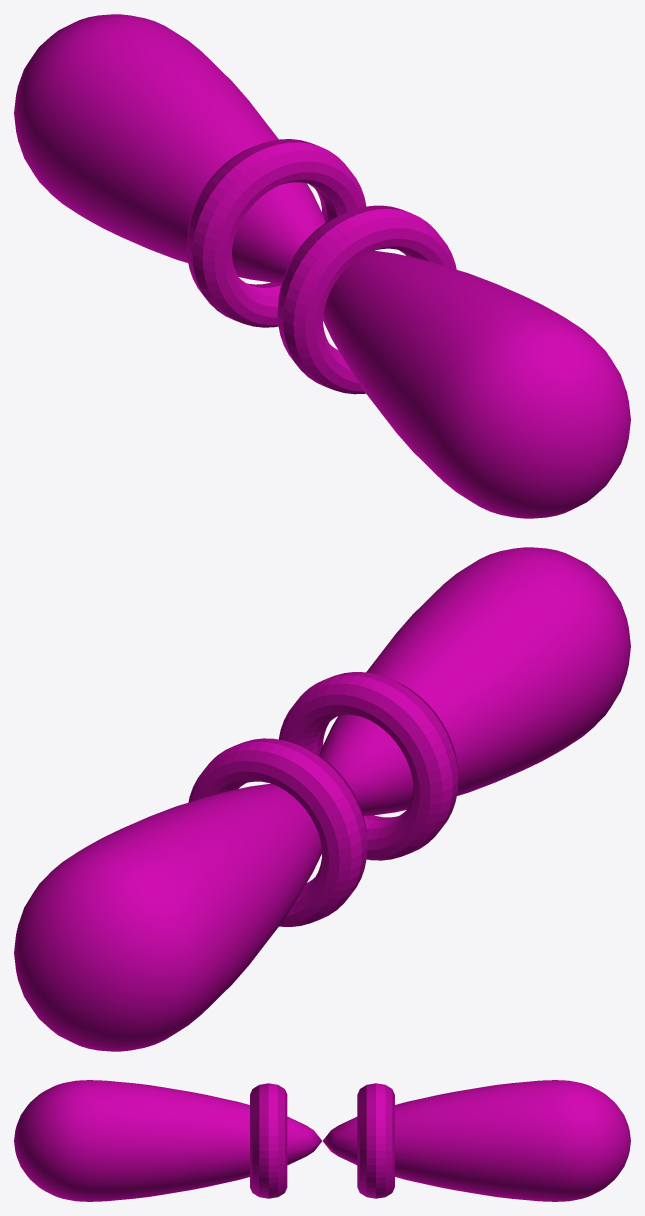
The picture shows the model from 3 angles, top to bottom: view 1: azimuth 30°, elevation 25°; view 2: azimuth 150°, elevation 25°; view 3: azimuth 270°, elevation 25°; orthographic projection. The views are drawn at different scales.
Parts seen in each view (by area): view 1: 4fx, Torus.003, Torus.005; view 2: 4fx, Torus.005, Torus.003; view 3: 4fx, Torus.003, Torus.005.
Boxes of the visible parts, <box> form: 4fx: <box>14,14,630,518</box>; Torus.003: <box>186,139,366,327</box>; Torus.005: <box>277,205,456,394</box>; 4fx: <box>14,547,630,1051</box>; Torus.005: <box>278,672,458,860</box>; Torus.003: <box>188,738,367,926</box>; 4fx: <box>14,1080,630,1201</box>; Torus.003: <box>357,1083,394,1198</box>; Torus.005: <box>250,1083,287,1198</box>.
Bounding box in the file's own units: 54 × 54 × 273.
